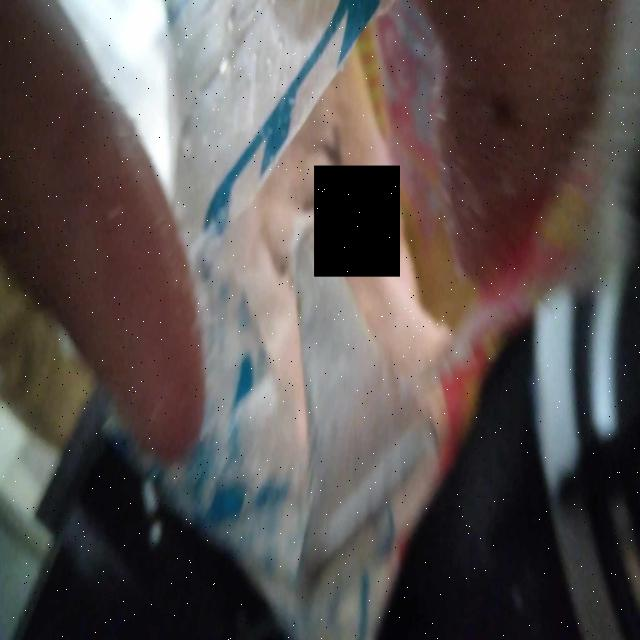Salt: (314, 166, 400, 276)
